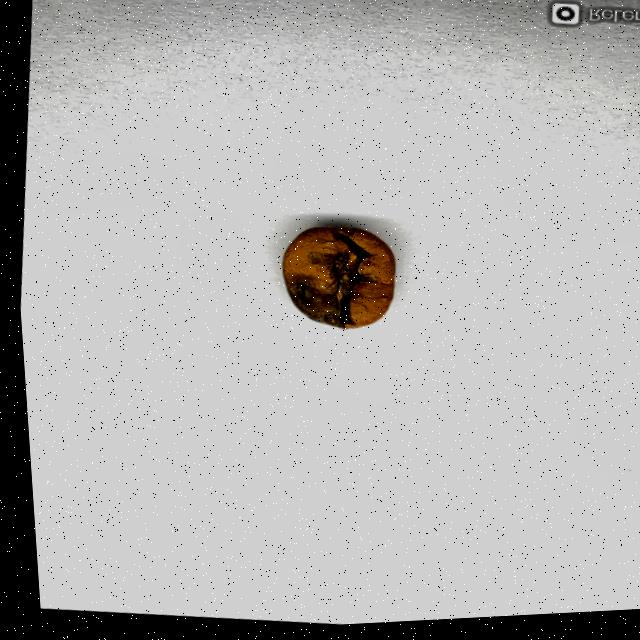Scorched: (272, 225, 395, 337)
